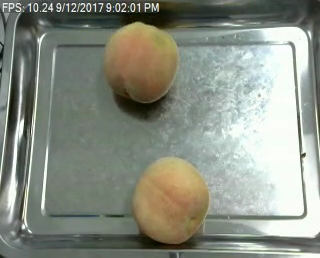Peach: (133, 157, 209, 245), (105, 21, 179, 104)
